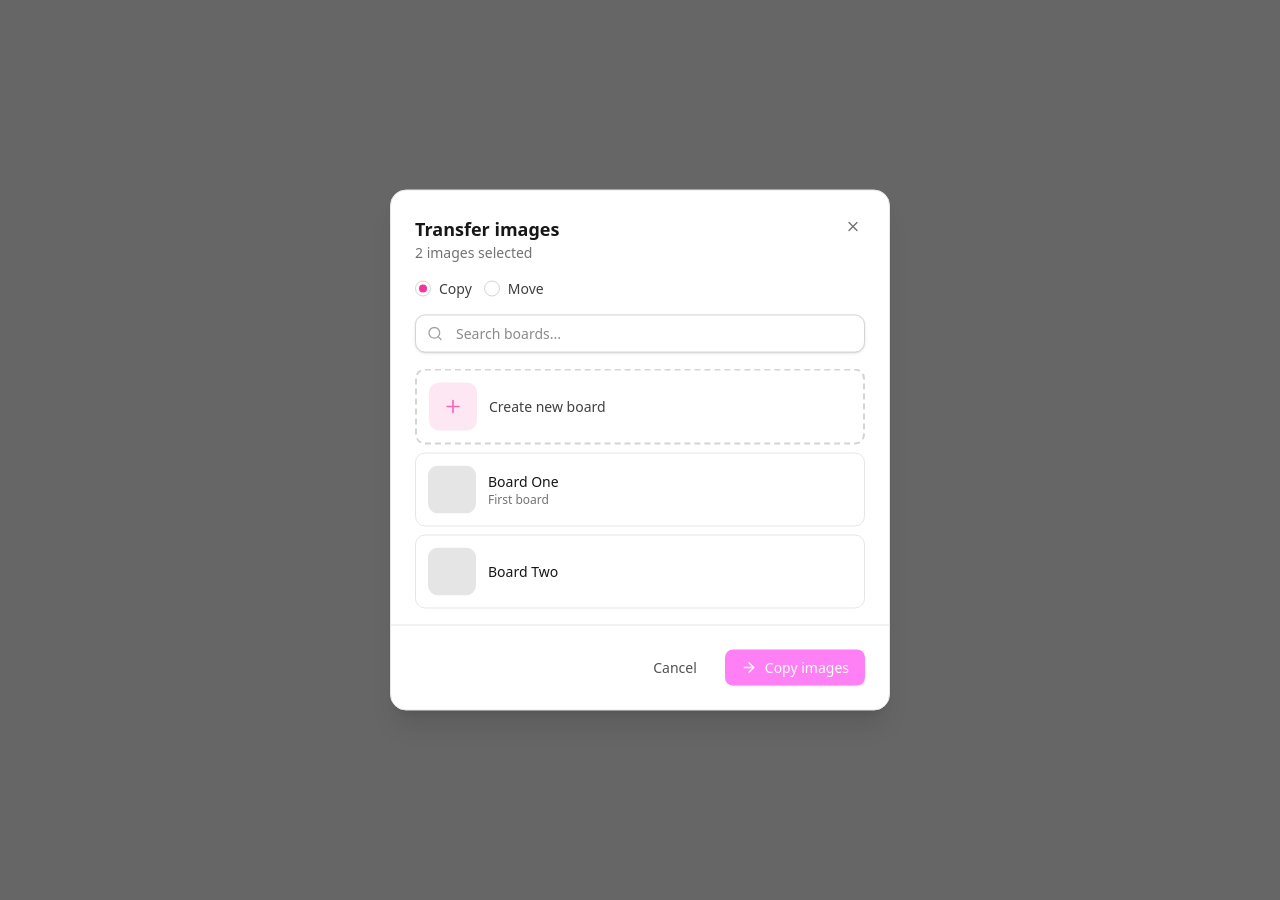
Scenario: TransferImagesDialog › changes transfer button text based on operation
The image size is (1280, 900).
Click the text "Board One".
click(523, 481)  # box [488,472,559,490]
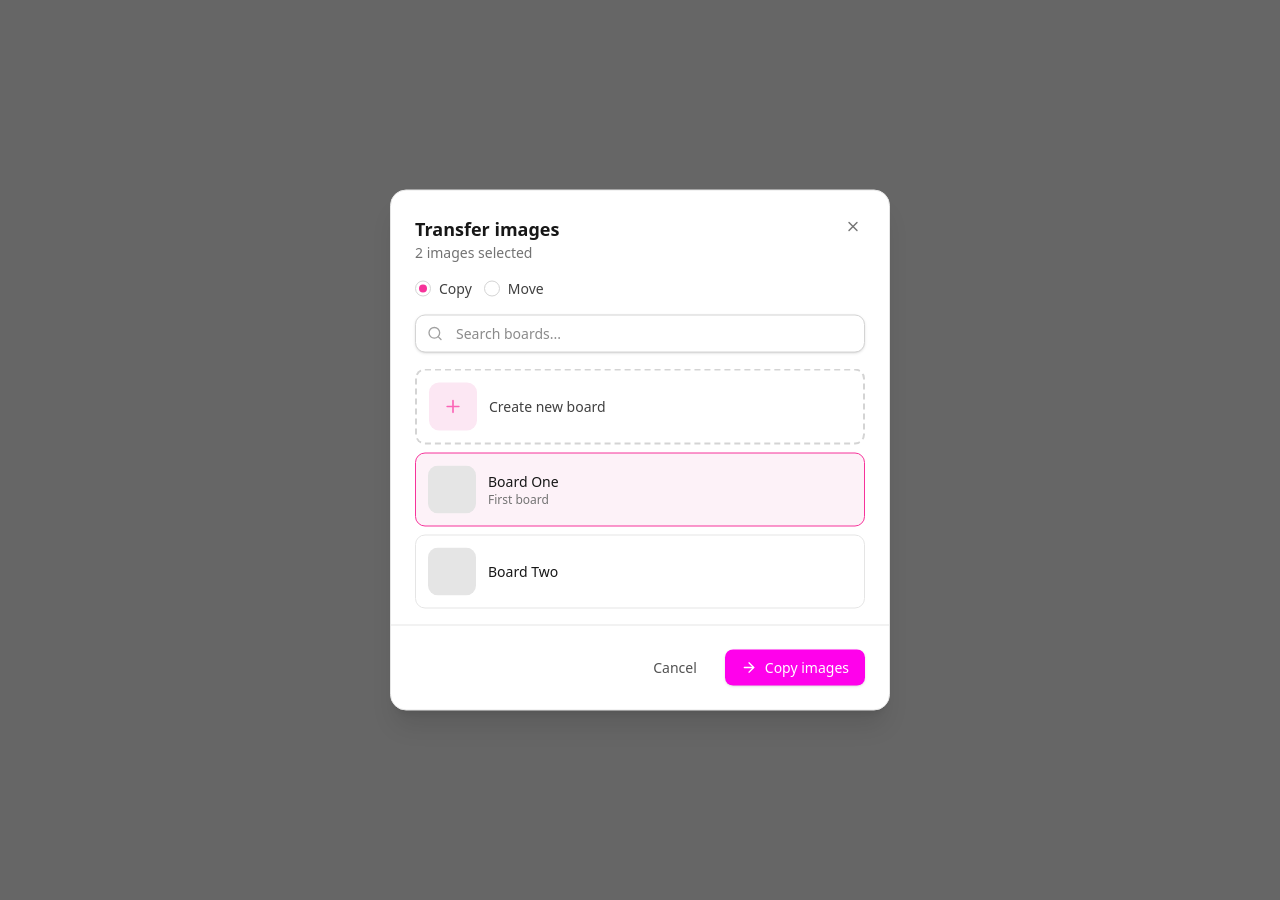
Expected: the button "Copy images" is shown, [725,650,865,686]
Click the radio button named "move" next to "Move".
click(492, 288)  # box [484,280,500,296]
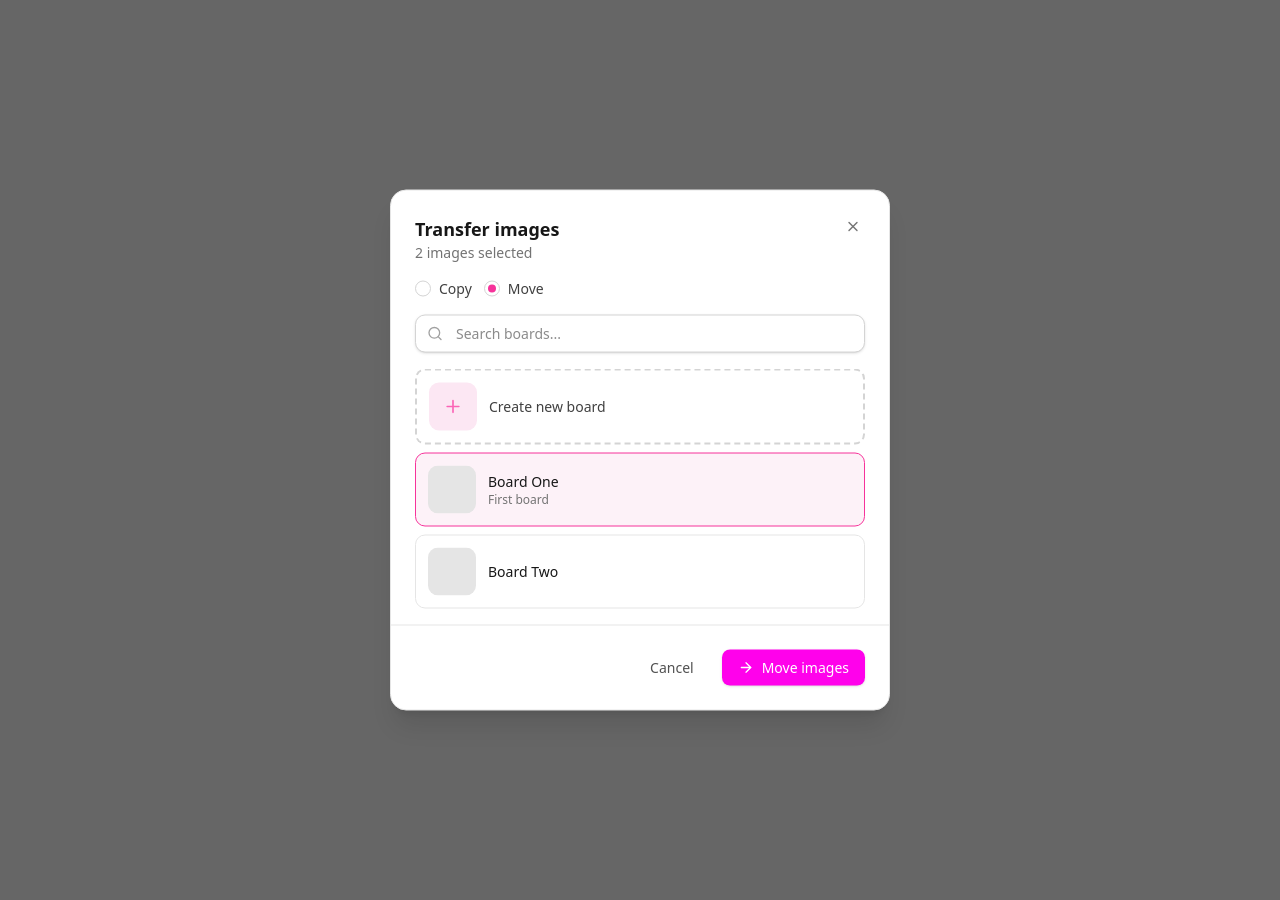
Expected: the button "Move images" is shown, [722,650,865,686]
